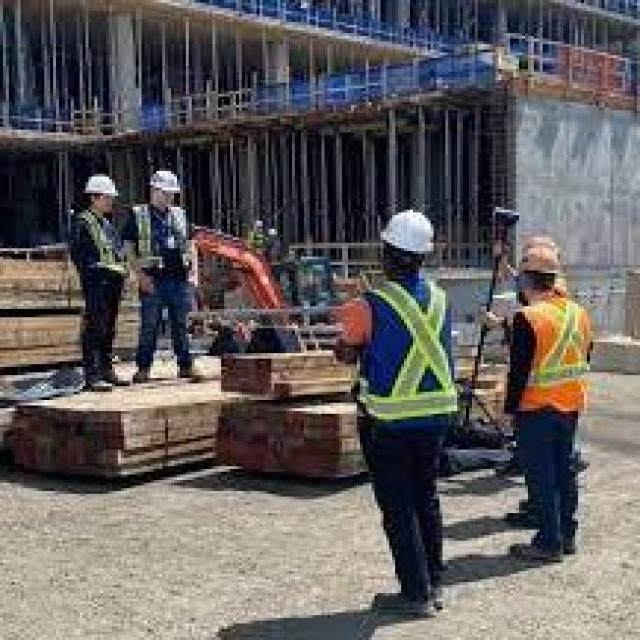reflective_jacket: (333, 275, 474, 438), (495, 295, 607, 424), (65, 207, 136, 284)
safety_helmet: (498, 223, 575, 289), (368, 201, 448, 264), (77, 168, 124, 204), (141, 165, 188, 201)
